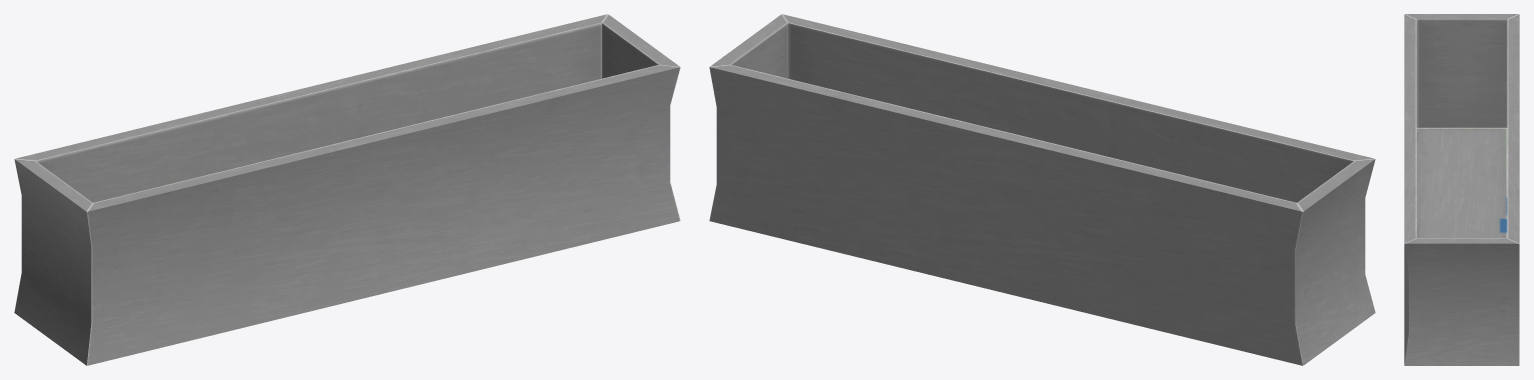
File: SM_Flower_Box_01.glb
3 renders of one model, left to right at view 1: azimuth 30°, elevation 25°; view 2: azimuth 150°, elevation 25°; view 3: azimuth 270°, elevation 25°, orthographic. The views are drawn at different scales.
Parts seen in each view (by area): view 1: SM_Flower_Box_01; view 2: SM_Flower_Box_01; view 3: SM_Flower_Box_01.
Boxes of the visible parts, box(x1,y1,x2,y2) form: SM_Flower_Box_01: box(14, 14, 680, 365); SM_Flower_Box_01: box(709, 14, 1375, 365); SM_Flower_Box_01: box(1404, 14, 1519, 365).
Size of the model in its own units: 1.44 by 0.3567 by 0.3044.
1 material, 1 textured.
